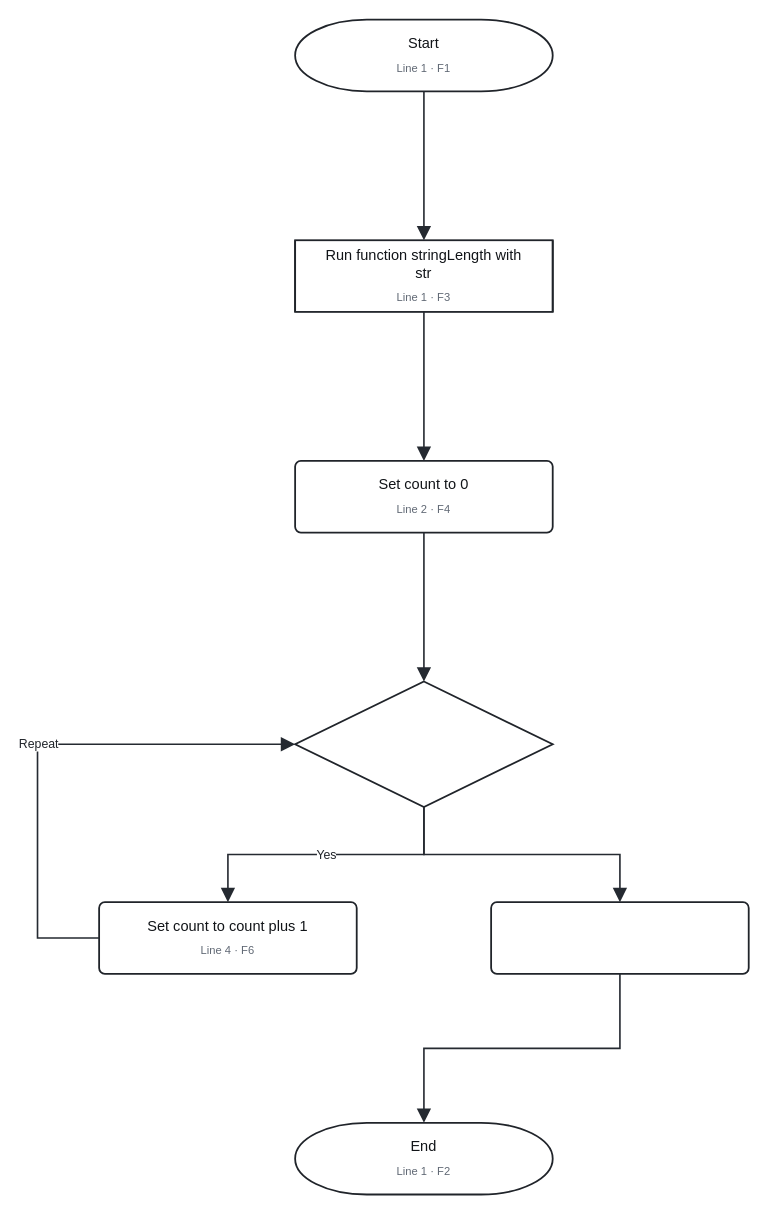
Image size: 769x1215. Some labels were removed from this diagram. Each missing label, with the centre of its shape:
For each __reserved_keyword__char in str Line 3 · F5: the point at 423,743
Return count Line 6 · F7: the point at 619,937
